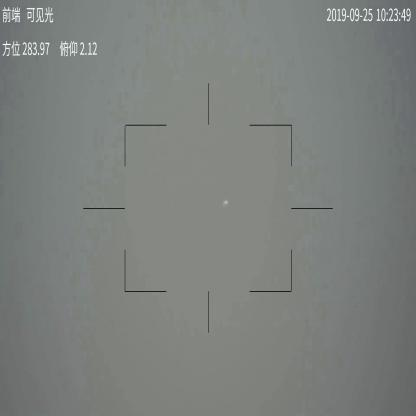uav: (223, 199, 230, 206)
